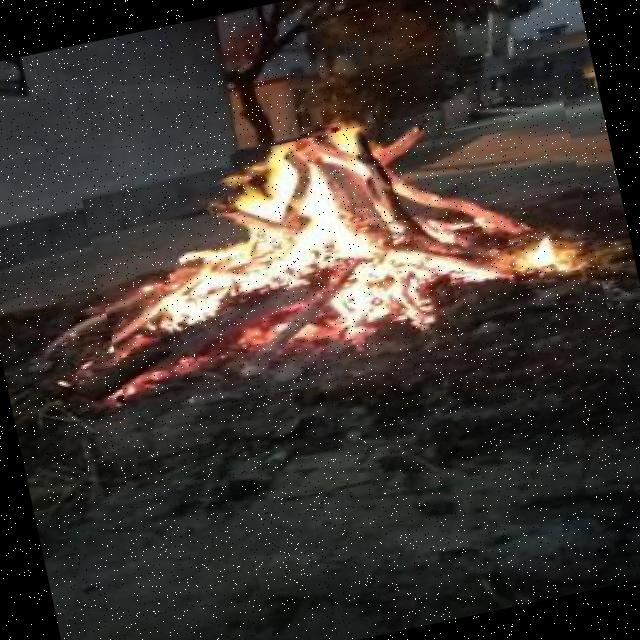fire: (79, 84, 610, 424)
